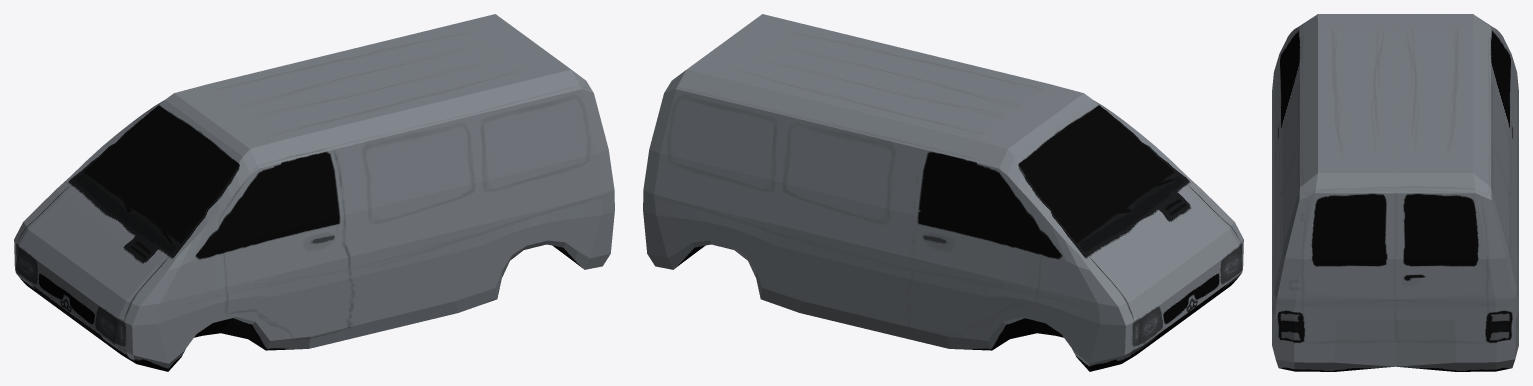
File: lp-van-jaune.glb
3 renders of one model, left to right at view 1: azimuth 30°, elevation 25°; view 2: azimuth 150°, elevation 25°; view 3: azimuth 270°, elevation 25°, orthographic.
Visible parts, largest first — view 1: Object_19; view 2: Object_19; view 3: Object_19.
Boxes of the visible parts, x1,y1,x2,y2 form: Object_19: (14, 14, 614, 371); Object_19: (643, 14, 1243, 371); Object_19: (1272, 14, 1518, 371).
Size of the model in its own units: 5.9 by 2.24 by 2.51.
1 material, 1 textured.
